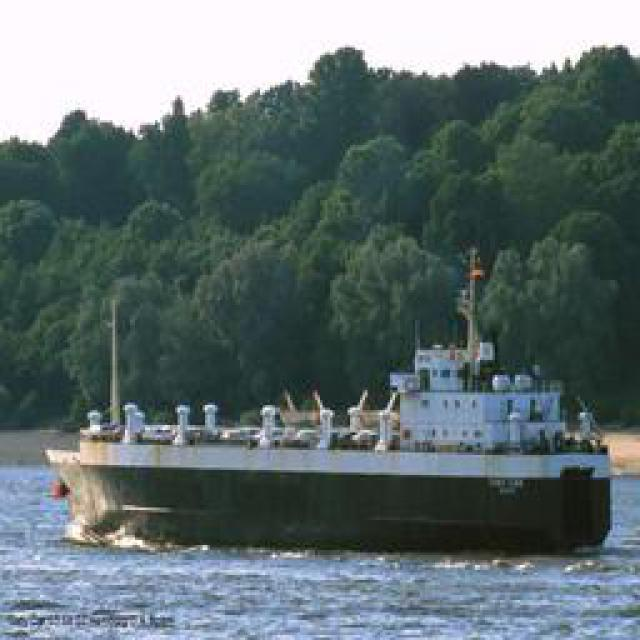Ship: (31, 373, 626, 558)
